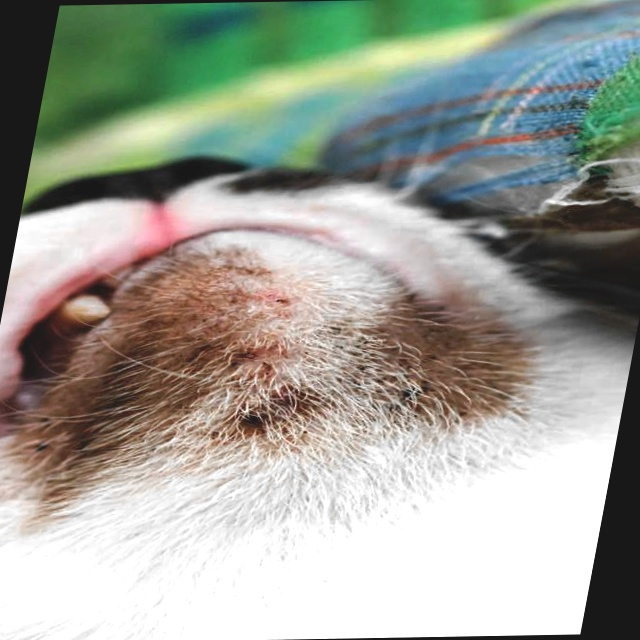acne: (187, 338, 342, 450)
